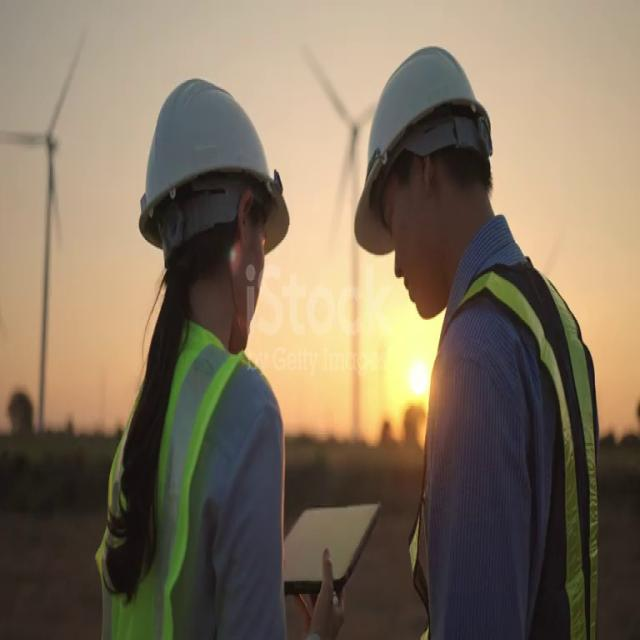capacete: (133, 68, 302, 270), (348, 39, 502, 260)
